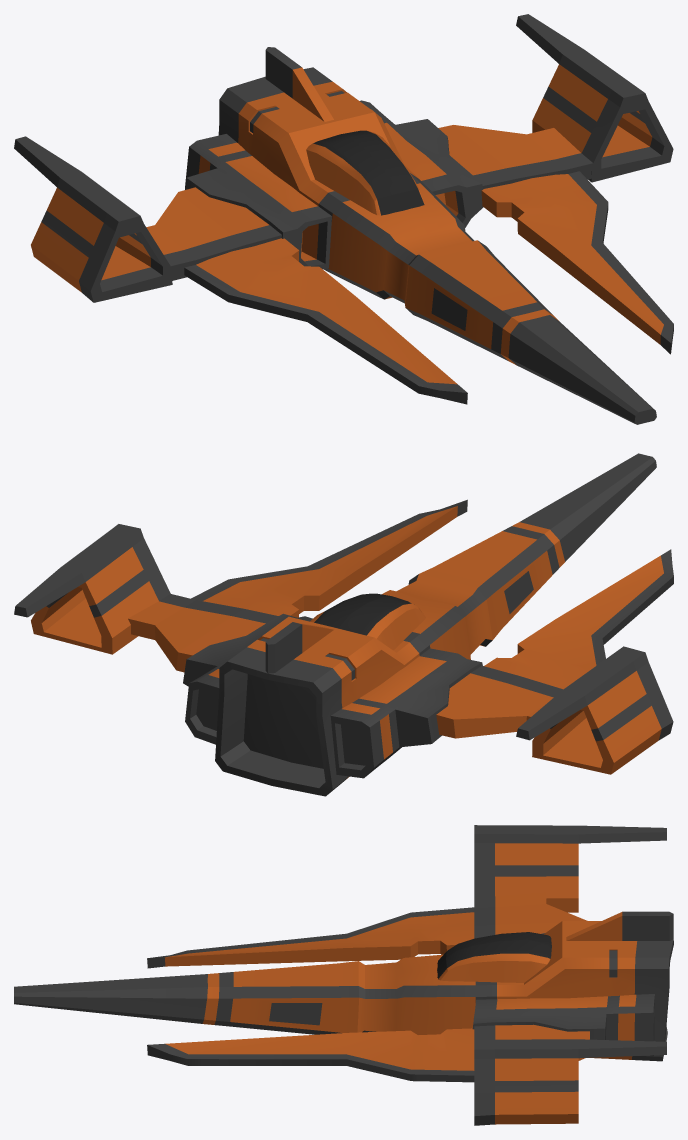
Rendered from fighter.glb.
The picture shows the model from 3 angles, top to bottom: view 1: azimuth 30°, elevation 25°; view 2: azimuth 150°, elevation 25°; view 3: azimuth 270°, elevation 25°; orthographic projection. The views are drawn at different scales.
Visible parts, largest first — view 1: Spaceship_RaeTheRedPanda; view 2: Spaceship_RaeTheRedPanda; view 3: Spaceship_RaeTheRedPanda.
Part boxes in pixels (bbox=[...]): Spaceship_RaeTheRedPanda: bbox=[14, 14, 673, 424]; Spaceship_RaeTheRedPanda: bbox=[14, 453, 673, 796]; Spaceship_RaeTheRedPanda: bbox=[14, 825, 673, 1125].
Size of the model in its own units: 9.95 by 2.35 by 11.17.
Materials: 1 (1 with a texture image).
